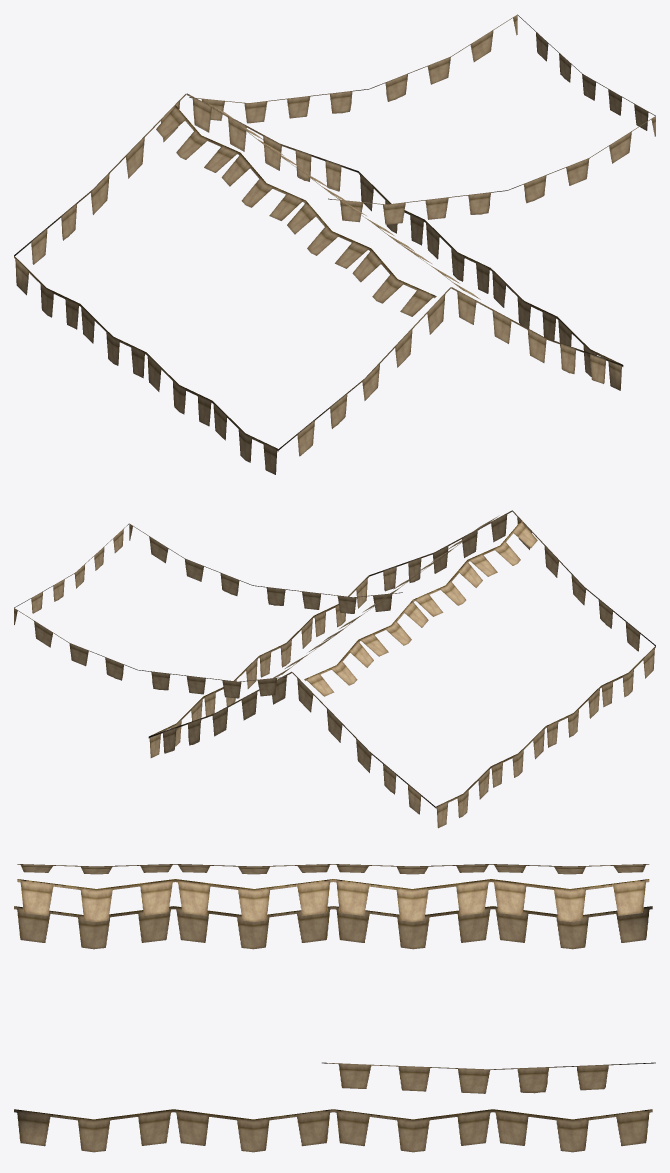
File: rome_tent_b_flaps.dae
The picture shows the model from 3 angles, top to bottom: view 1: azimuth 30°, elevation 25°; view 2: azimuth 150°, elevation 25°; view 3: azimuth 270°, elevation 25°; orthographic projection. The views are drawn at different scales.
Parts seen in each view (by area): view 1: rome_sb_tent_transp001; view 2: rome_sb_tent_transp001; view 3: rome_sb_tent_transp001.
Part boxes in pixels (x1=…): rome_sb_tent_transp001: x1=14, y1=14, x2=655, y2=474; rome_sb_tent_transp001: x1=14, y1=510, x2=655, y2=828; rome_sb_tent_transp001: x1=14, y1=864, x2=655, y2=1152.
Size of the model in its own units: 7.88 by 2.41 by 7.19.
